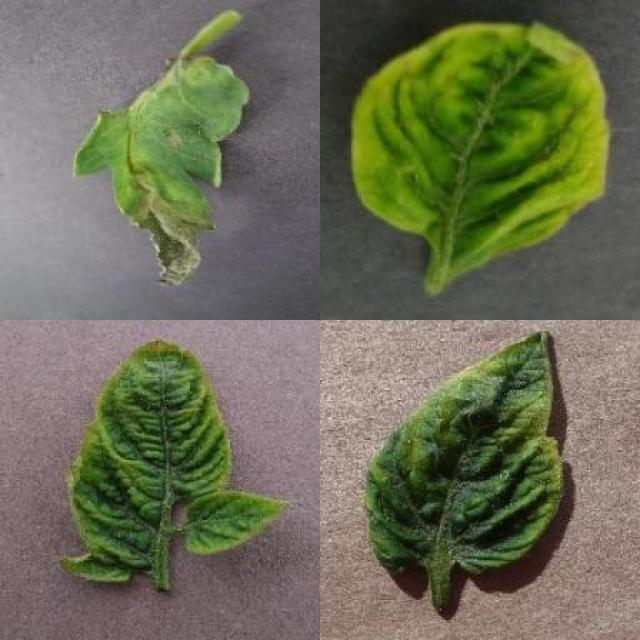Late Blight: (67, 54, 250, 287)
Yellow Leaf Curl Virus: (349, 22, 611, 274), (63, 336, 290, 584), (365, 328, 566, 576)
